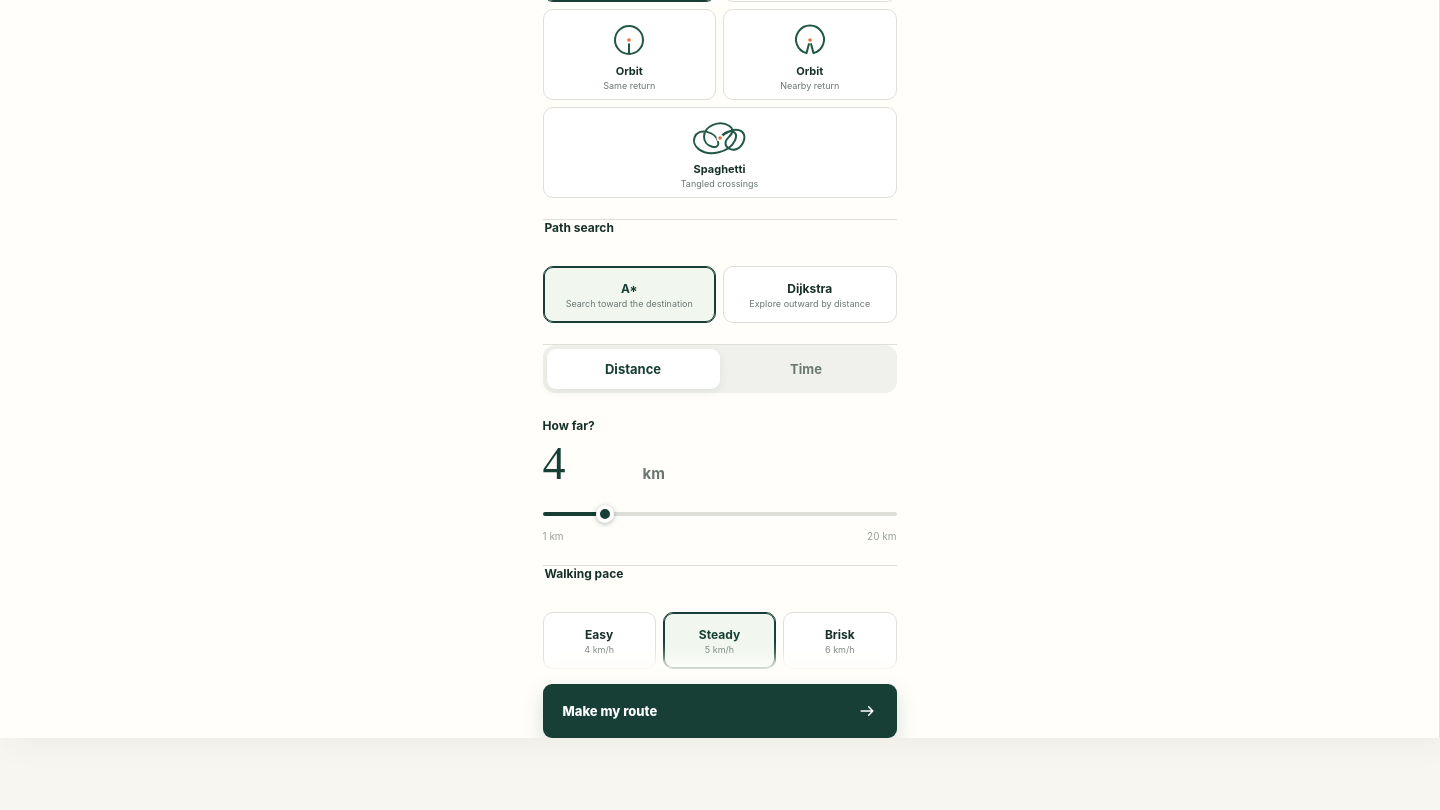
Test: RouteOptions component › switches between distance and time modes
(page scrolled)
Click the button "Time" at (806, 369), box x1=720 y1=349 x2=892 y2=389
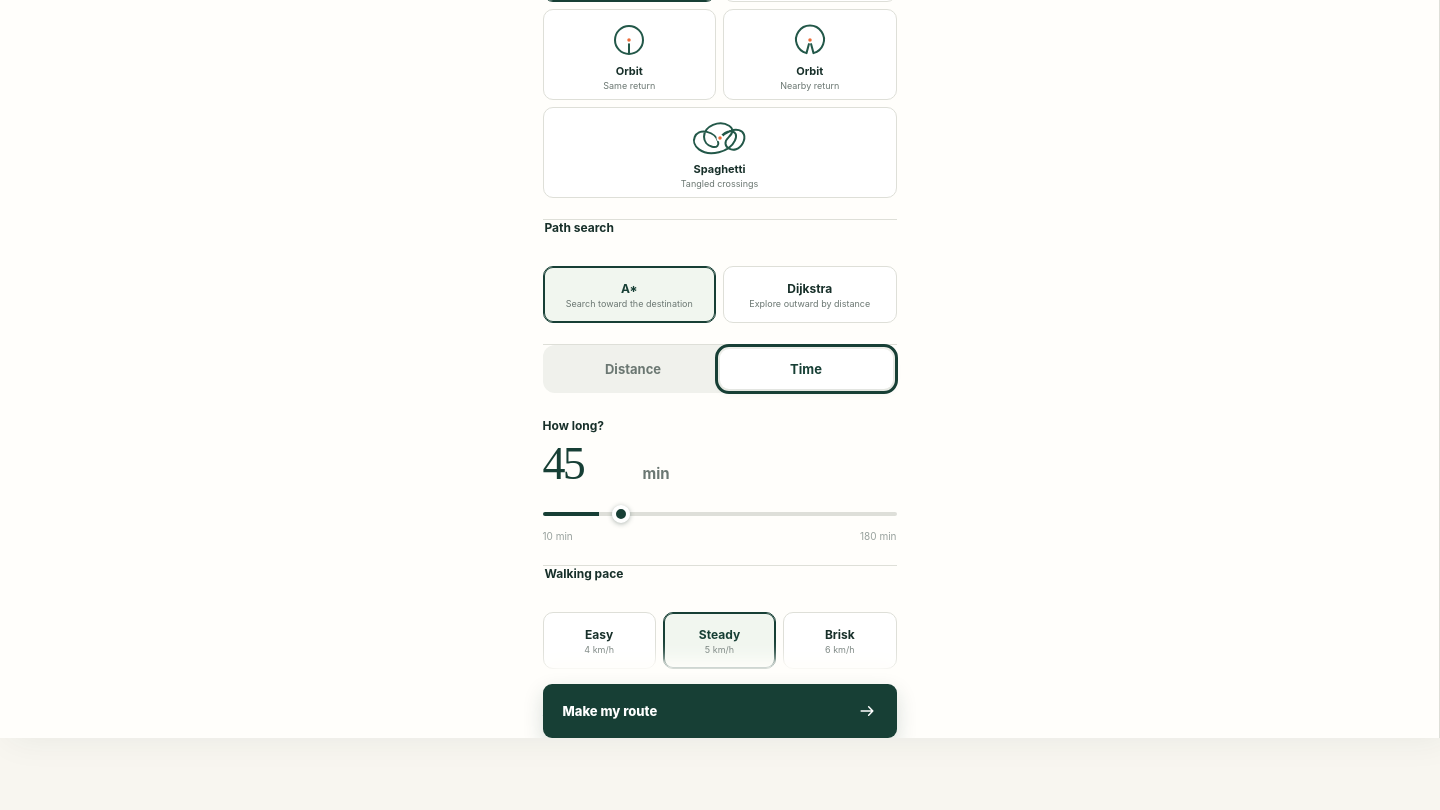
Expected: the text "min" is shown, x1=642 y1=464 x2=670 y2=483
Click the button "Distance" at (633, 369), box x1=546 y1=349 x2=720 y2=389
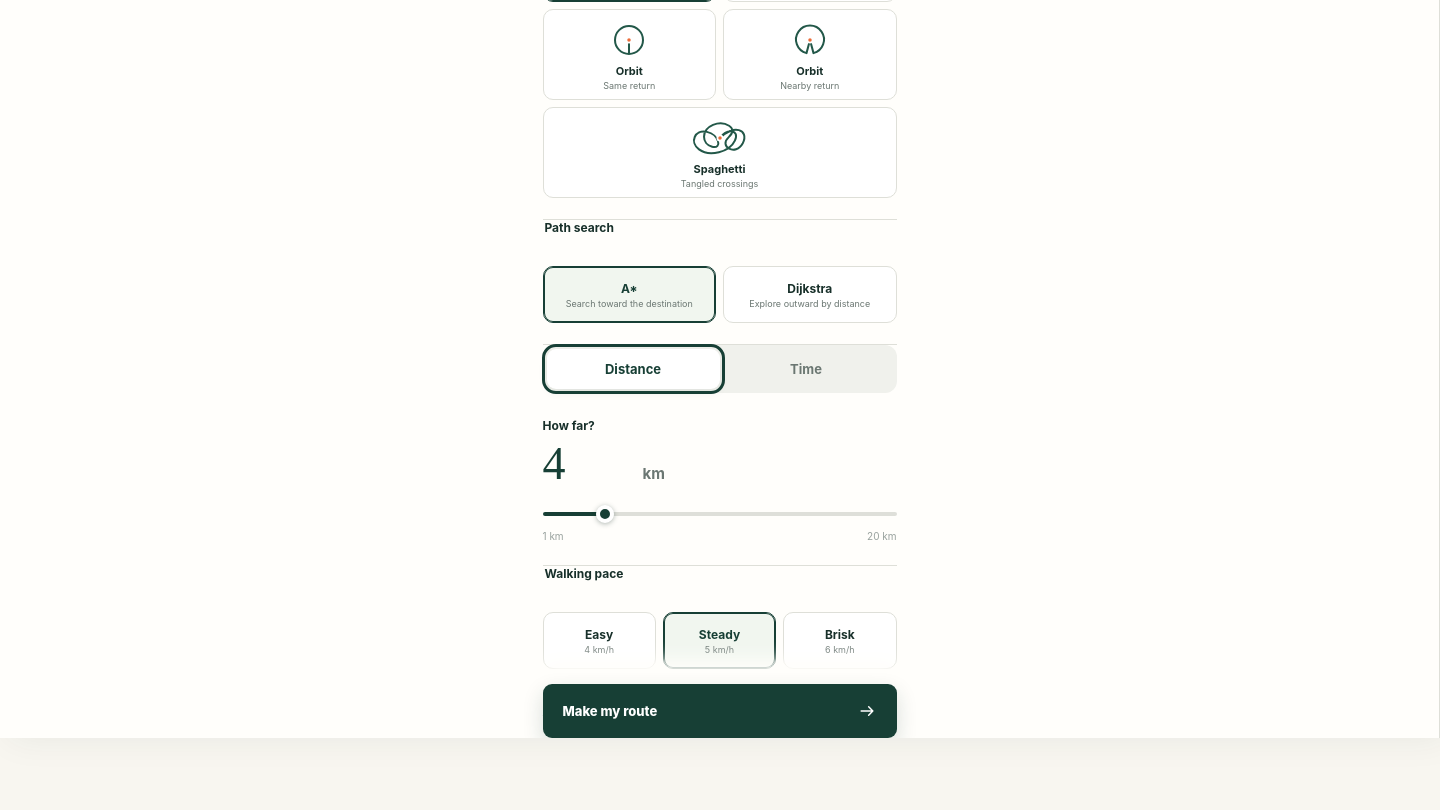
Expected: the text "km" is shown, x1=642 y1=464 x2=665 y2=483
